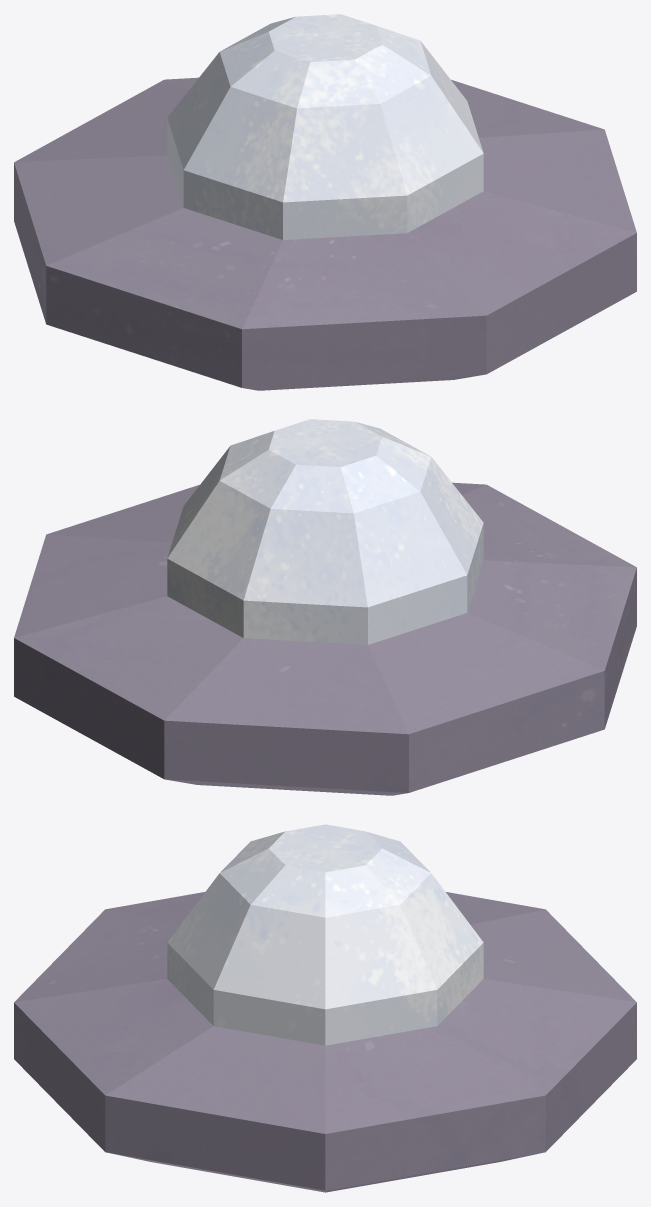
Rendered from SM_smallUFO.fbx.
The picture shows the model from 3 angles, top to bottom: view 1: azimuth 30°, elevation 25°; view 2: azimuth 150°, elevation 25°; view 3: azimuth 270°, elevation 25°; orthographic projection. The views are drawn at different scales.
Parts seen in each view (by area): view 1: UFO; view 2: UFO; view 3: UFO.
Boxes of the visible parts, x1,y1,x2,y2 form: UFO: (14,14,636,390); UFO: (14,419,636,795); UFO: (14,824,636,1192).
Size of the model in its own units: 31.66 by 13.42 by 31.66.
